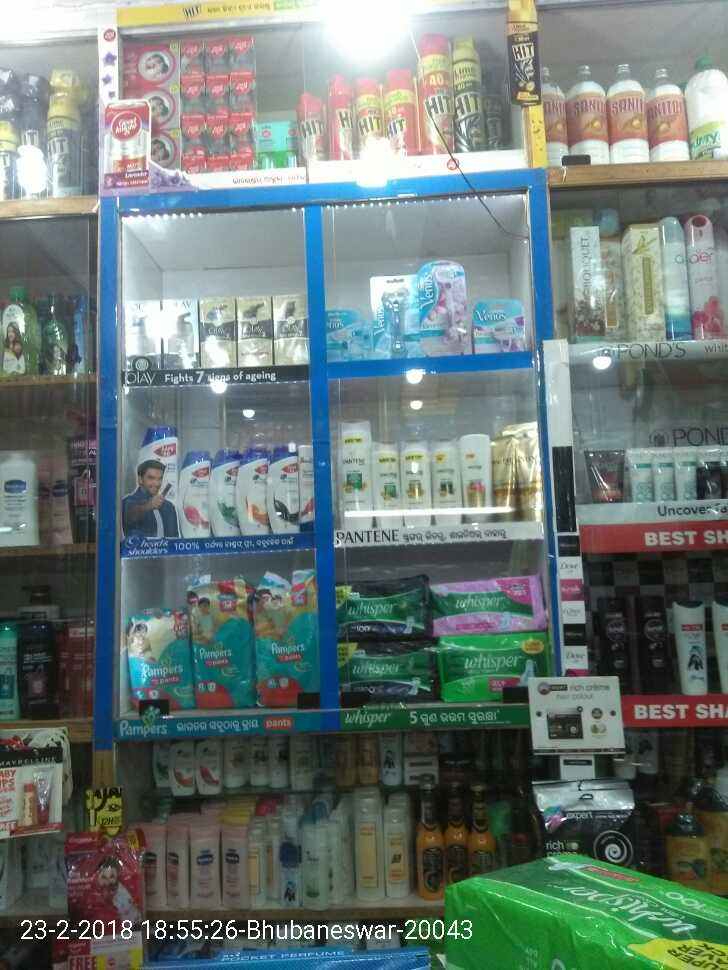venus: (418, 260, 473, 354), (372, 275, 415, 358), (473, 300, 522, 354), (326, 308, 372, 358)
